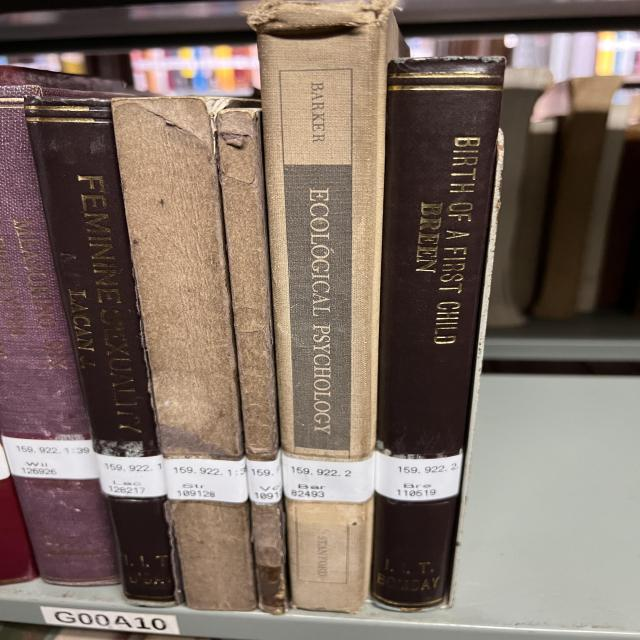Book: (248, 0, 402, 612), (25, 96, 173, 602), (112, 98, 257, 610), (373, 58, 505, 609), (215, 109, 288, 614)
Label: (282, 452, 375, 502), (375, 451, 463, 501), (2, 436, 100, 480), (163, 459, 248, 502), (97, 454, 167, 498), (245, 451, 282, 504)
